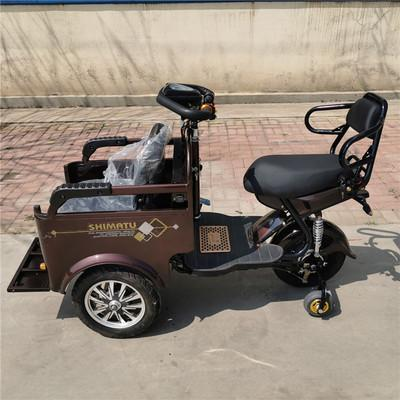empty: (16, 76, 379, 334)
